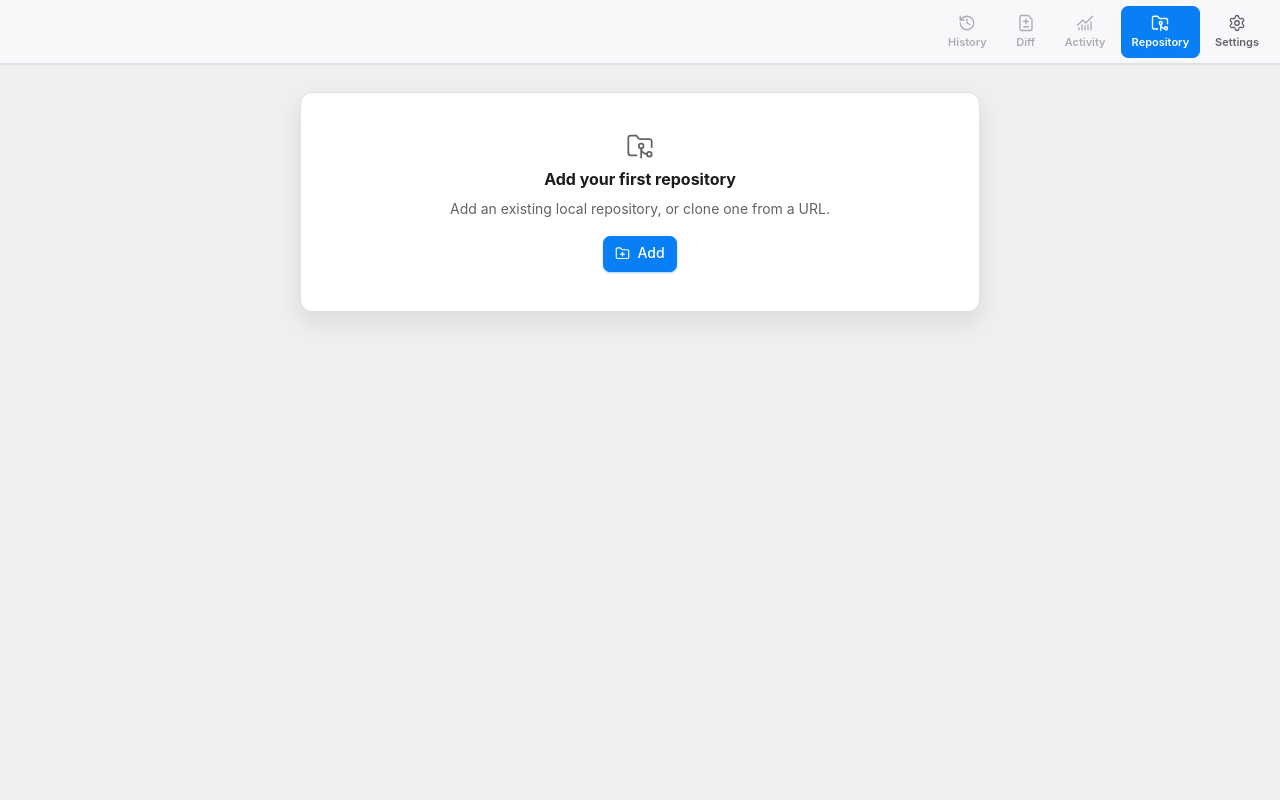
Test: App repository attach › uses a Finder-selected Clone destination and rejects an invalid remote location
Step 1. Click the button with aria-label "Add Repository" → (640, 254), box [603,236,676,272]
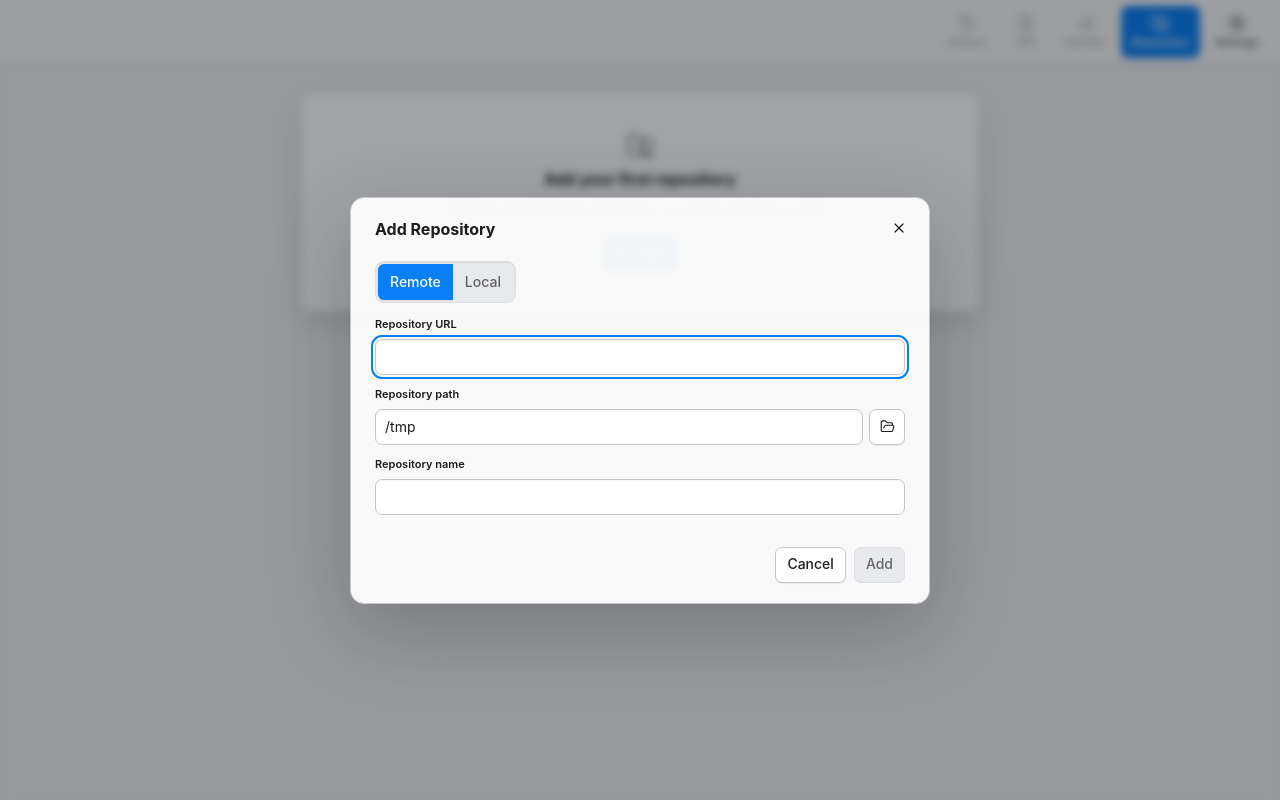
Step 2. Click the button named "Choose Repository" → (887, 427), box [869,409,905,445]
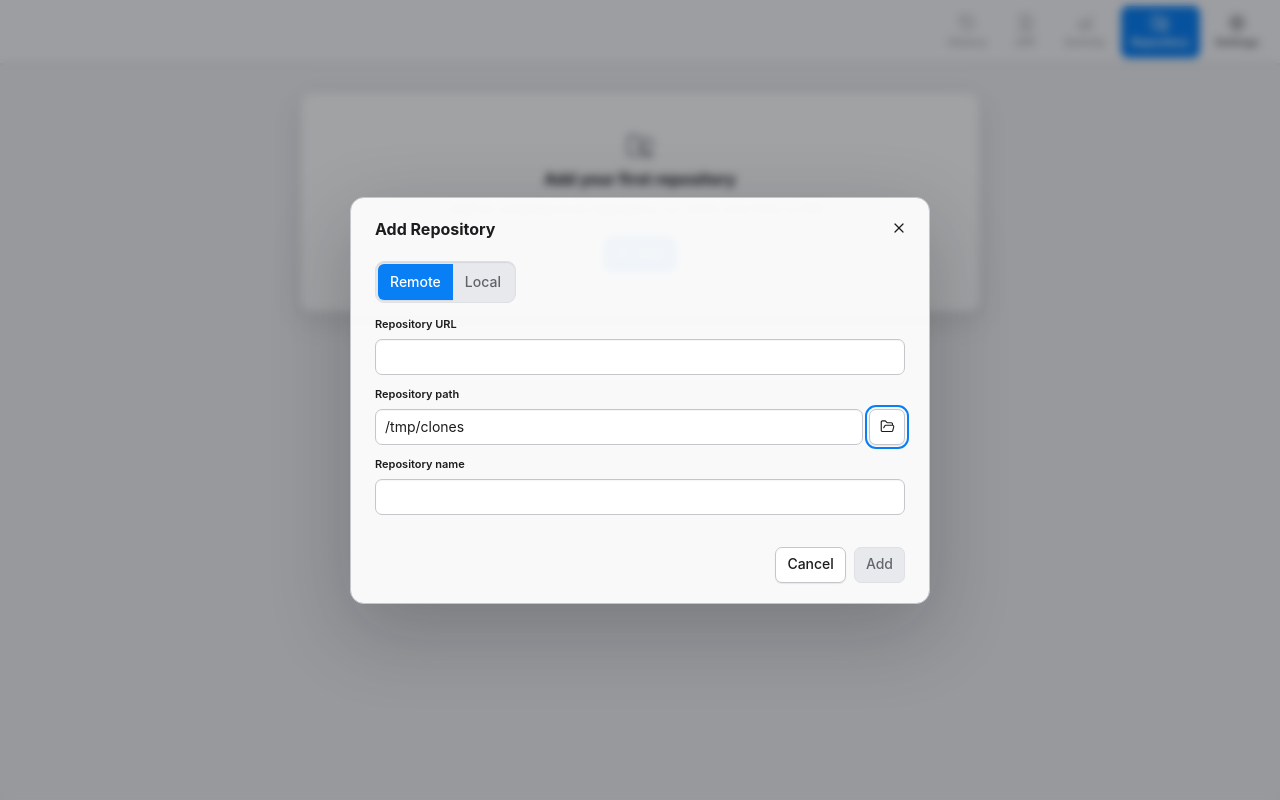
Expected: the field labelled "Repository path" holds "/tmp/clones", [375,409,863,445]
Step 3. Type "repository" into the field labelled "Repository name" → (640, 496), box [375,478,905,514]
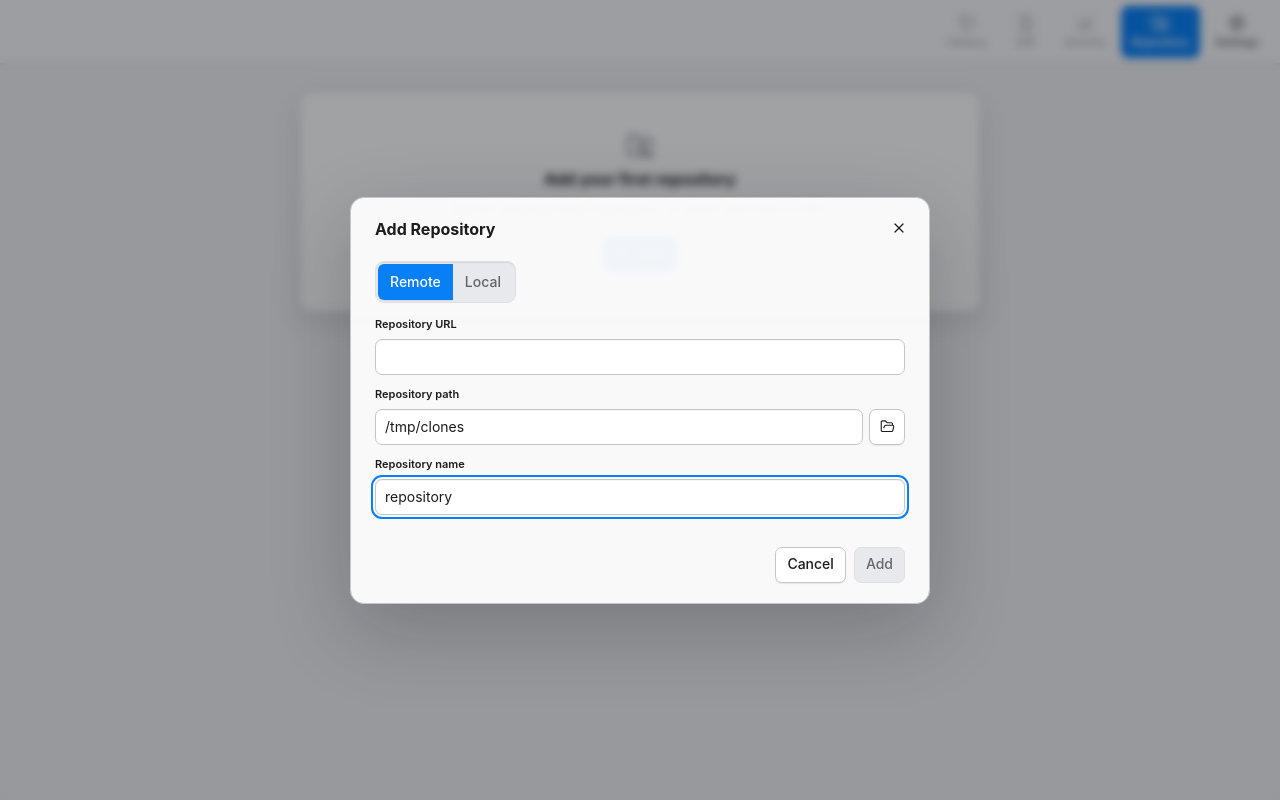
Step 4. Type "invalid" into the field labelled "Repository URL" → (640, 357), box [375,339,905,375]
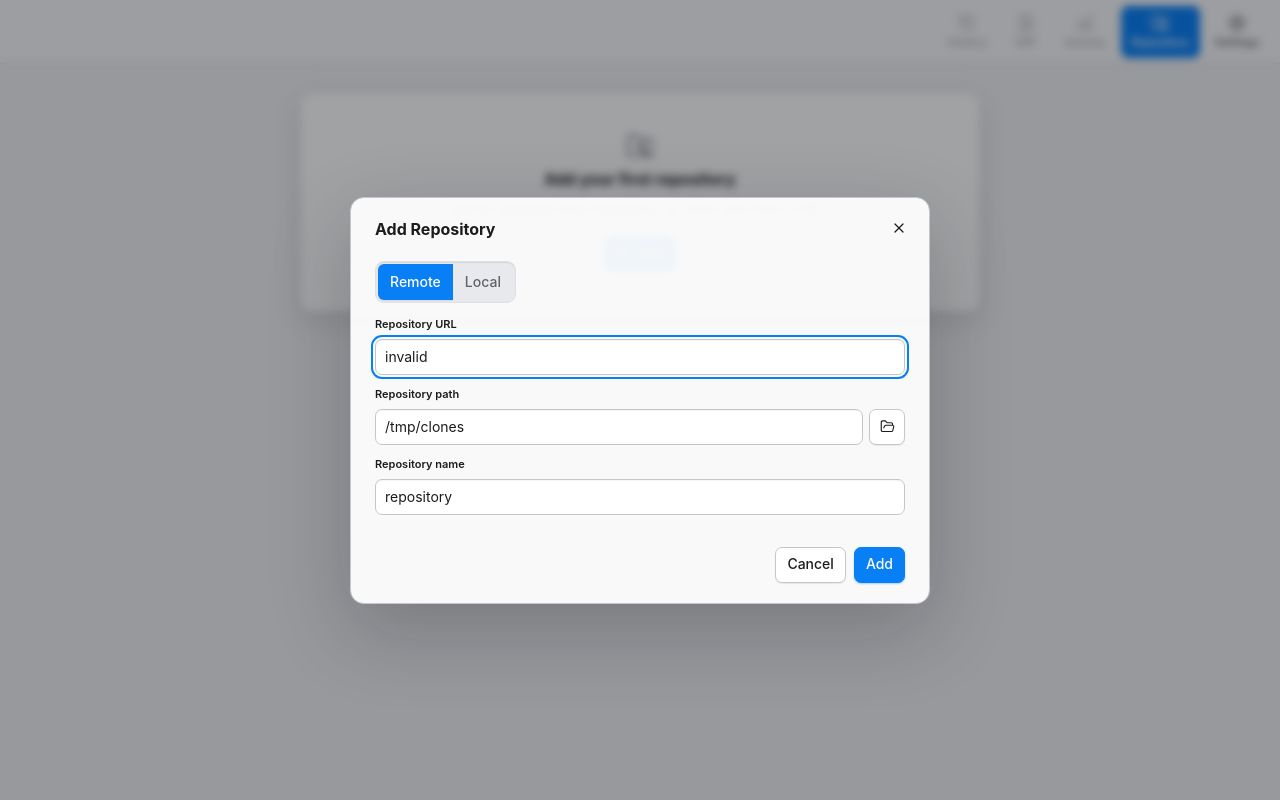
Step 5. Click the button with aria-label "Add Repository" → (879, 564), box [854,546,905,582]
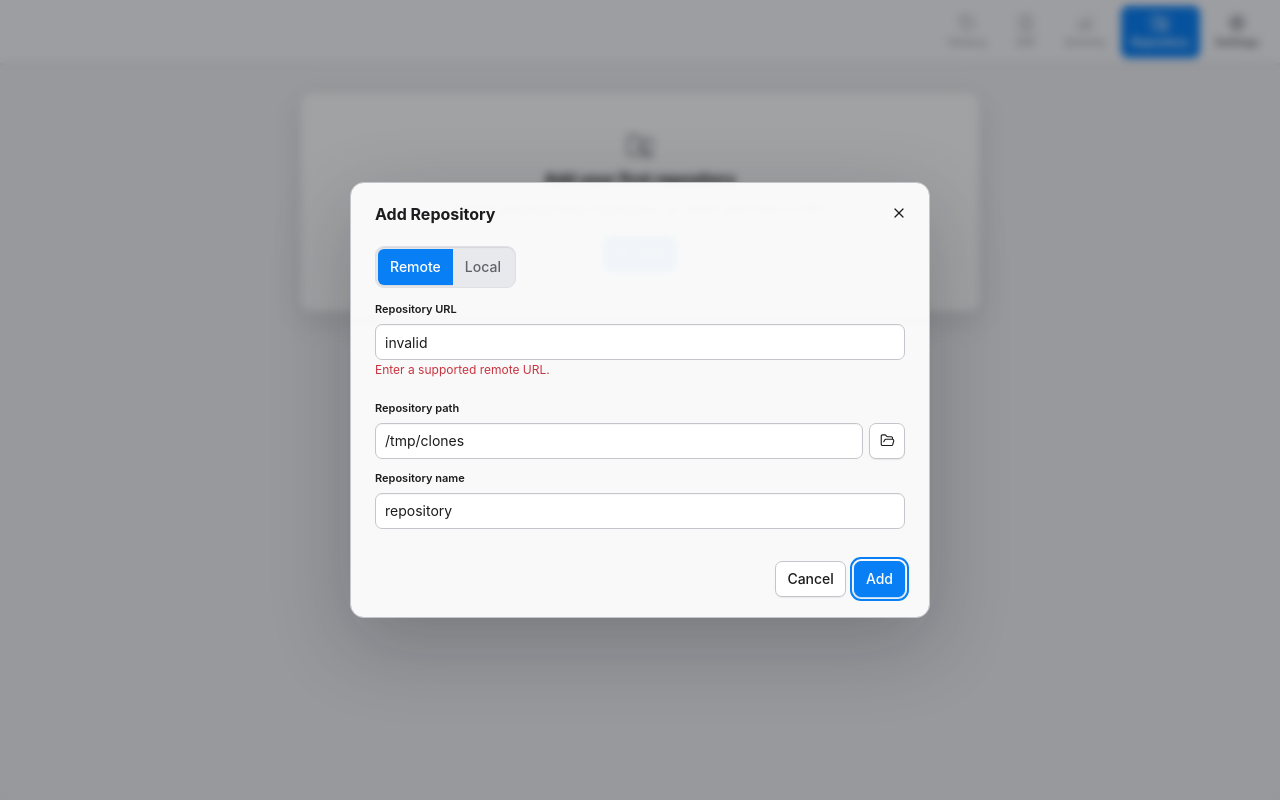
Expected: the message reads "Enter a supported remote URL.", [375,362,550,377]
